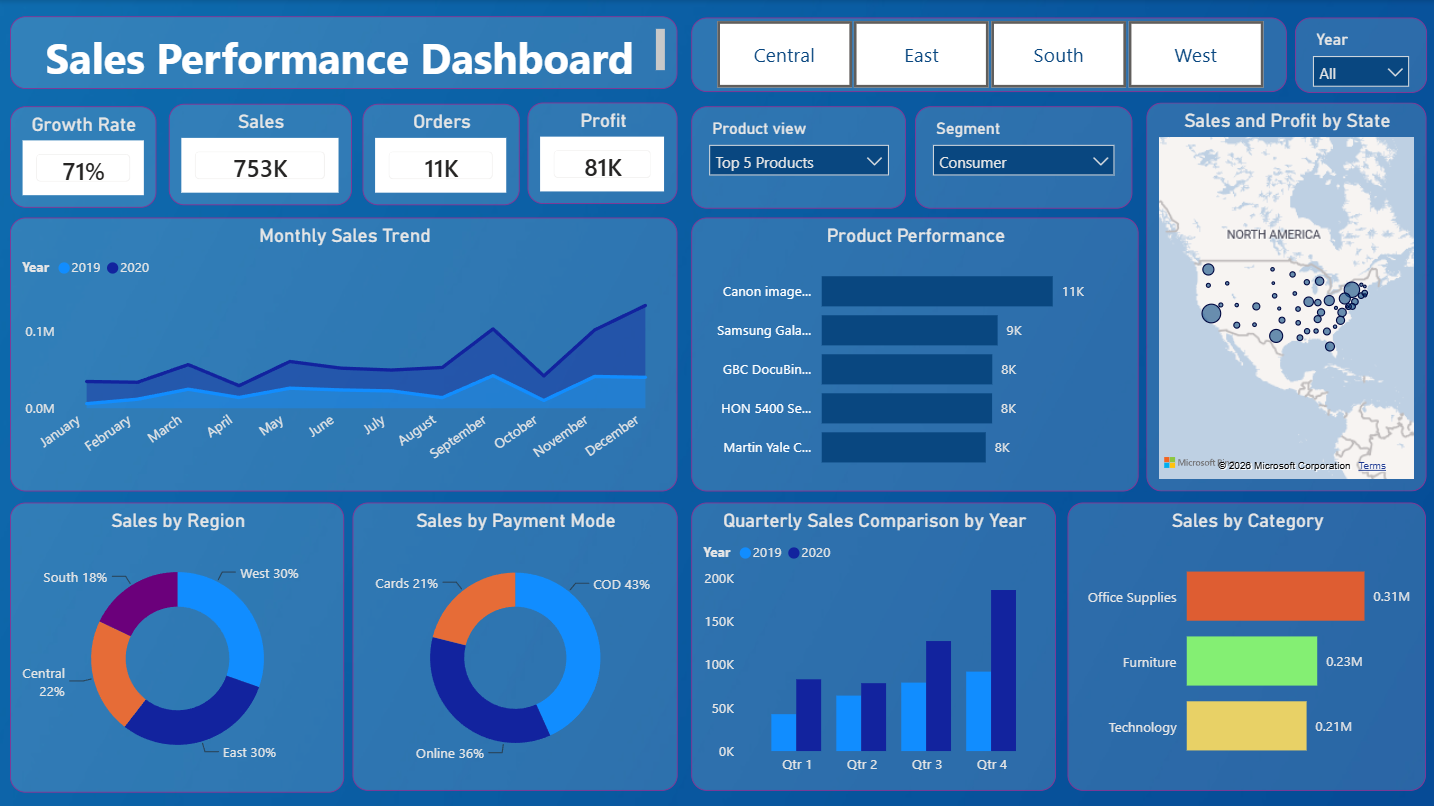

What the dashboard file says about the page in this screenshot:
{"tool":"powerbi","page":{"name":"Page 1","canvas":[1280,720],"ordinal":0},"visuals":[{"type":"clusteredBarChart","title":" Sales by Category","fields":{"Category":["SuperStore_Sales_Dataset.Category"],"Y":["Sum(SuperStore_Sales_Dataset.Sales)"]},"box":[950.7,447.5,319.5,257.1],"z":0},{"type":"stackedAreaChart","title":" Monthly Sales Trend","fields":{"Y":["Sum(SuperStore_Sales_Dataset.Sales)"],"Series":["SuperStore_Sales_Dataset.Order Date.Variation.Date Hierarchy.Year"],"Category":["SuperStore_Sales_Dataset.Order Date.Variation.Date Hierarchy.Month","SuperStore_Sales_Dataset.Order Date.Variation.Date Hierarchy.Day"]},"box":[8.4,194.2,594.8,243.7],"z":1000},{"type":"map","title":"Sales and  Profit by State","fields":{"Category":["SuperStore_Sales_Dataset.State"],"Size":["Sum(SuperStore_Sales_Dataset.Sales)"]},"box":[1020.6,91.7,249.7,346.2],"z":2000},{"type":"donutChart","title":" Sales by  Region","fields":{"Category":["SuperStore_Sales_Dataset.Region"],"Y":["Sum(SuperStore_Sales_Dataset.Sales)"]},"box":[8.4,447.6,298,258.2],"z":3000},{"type":"donutChart","title":" Sales by Payment Mode","fields":{"Category":["SuperStore_Sales_Dataset.Payment Mode"],"Y":["Sum(SuperStore_Sales_Dataset.Sales)"]},"box":[313.7,447.6,289.5,257],"z":4000},{"type":"slicer","fields":{"Values":["SuperStore_Sales_Dataset.Region"]},"box":[615.1,15.1,530.2,66.3],"z":5000},{"type":"textbox","box":[8.4,14.5,594.8,65.1],"z":6000},{"type":"cardVisual","title":"Sales","fields":{"Data":["Sum(SuperStore_Sales_Dataset.Sales)"]},"box":[150.8,92.9,162.9,90.5],"z":7000},{"type":"cardVisual","title":"Orders","fields":{"Data":["Sum(SuperStore_Sales_Dataset.Quantity)"]},"box":[323.3,92.9,139.9,90.5],"z":8000},{"type":"cardVisual","title":"Profit","fields":{"Data":["Sum(SuperStore_Sales_Dataset.Profit)"]},"box":[469.3,91.7,133.9,90.5],"z":9000},{"type":"cardVisual","title":"Growth Rate","fields":{"Data":["SuperStore_Sales_Dataset.Growth Rate"]},"box":[8.4,94.1,130.3,90.5],"z":10000},{"type":"clusteredColumnChart","title":" Quarterly Sales Comparison by Year","fields":{"Category":["SuperStore_Sales_Dataset.Order Date.Variation.Date Hierarchy.Quarter"],"Series":["SuperStore_Sales_Dataset.Order Date.Variation.Date Hierarchy.Year"],"Y":["Sum(SuperStore_Sales_Dataset.Sales)"]},"box":[615.6,447.5,325,257.1],"z":11000},{"type":"clusteredBarChart","title":" Product Performance","fields":{"Category":["SuperStore_Sales_Dataset.Product Name"],"Y":["SuperStore_Sales_Dataset.Total Sales"]},"box":[615.6,193.7,398.5,243.8],"z":12000},{"type":"slicer","fields":{"Values":["ProductView.Product view"]},"box":[615.6,94.6,191.5,91.3],"z":13000},{"type":"slicer","fields":{"Values":["SuperStore_Sales_Dataset.Segment"]},"box":[814.8,94.6,193.7,91.3],"z":14000},{"type":"slicer","fields":{"Values":["SuperStore_Sales_Dataset.Year"]},"box":[1153.5,15.1,117.4,67.4],"z":14001}]}

Visuals, with their boxes in screenshot pixels (x1, y1, x2, y2), scaled from the page's 1280x720 canvas onto the 1434x806 screenshot:
" Sales by Category" clusteredBarChart: [1065,501,1423,789]
" Monthly Sales Trend" stackedAreaChart: [9,217,676,490]
"Sales and  Profit by State" map: [1143,103,1423,490]
" Sales by  Region" donutChart: [9,501,343,790]
" Sales by Payment Mode" donutChart: [351,501,676,789]
slicer - SuperStore_Sales_Dataset.Region: [689,17,1283,91]
textbox: [9,16,676,89]
"Sales" cardVisual: [169,104,351,205]
"Orders" cardVisual: [362,104,519,205]
"Profit" cardVisual: [526,103,676,204]
"Growth Rate" cardVisual: [9,105,155,207]
" Quarterly Sales Comparison by Year" clusteredColumnChart: [690,501,1054,789]
" Product Performance" clusteredBarChart: [690,217,1136,490]
slicer - ProductView.Product view: [690,106,904,208]
slicer - SuperStore_Sales_Dataset.Segment: [913,106,1130,208]
slicer - SuperStore_Sales_Dataset.Year: [1292,17,1424,92]
